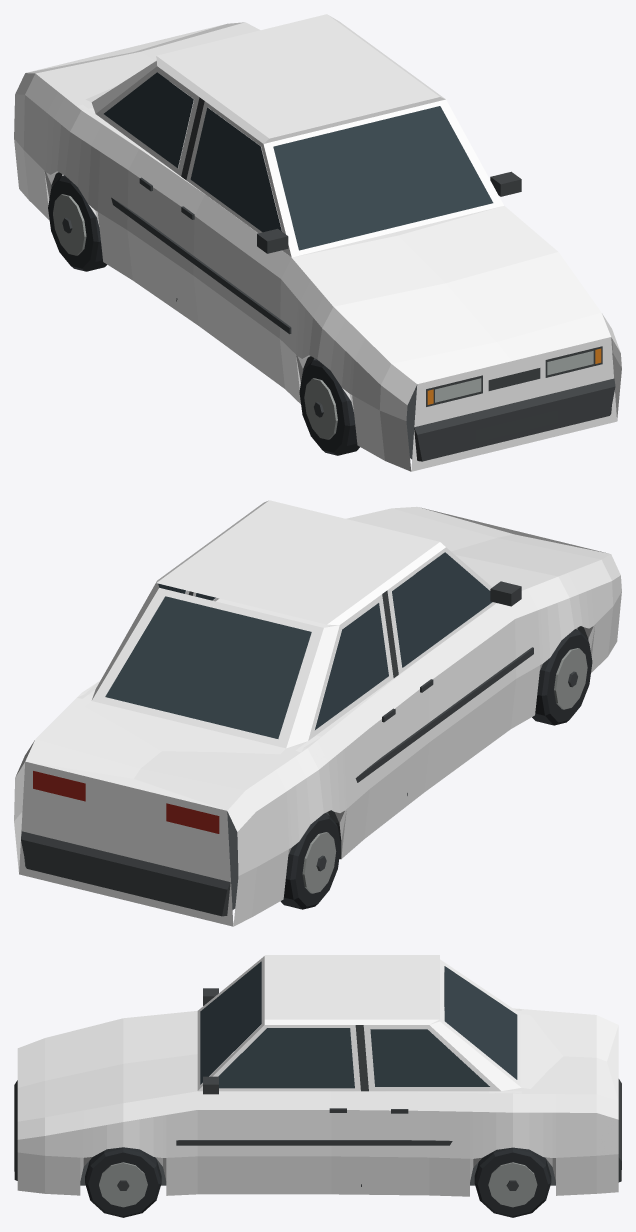
Rendered from mizuchi_kagero.glb.
3 renders of one model, top to bottom at view 1: azimuth 30°, elevation 25°; view 2: azimuth 150°, elevation 25°; view 3: azimuth 270°, elevation 25°, orthographic. The views are drawn at different scales.
Parts seen in each view (by area): view 1: mizuchi_kagero; view 2: mizuchi_kagero; view 3: mizuchi_kagero.
Part boxes in pixels (left/top/right/bottom): mizuchi_kagero: left=14, top=14, right=621, bottom=471; mizuchi_kagero: left=14, top=500, right=621, bottom=926; mizuchi_kagero: left=14, top=955, right=621, bottom=1217.
Size of the model in its own units: 1.73 by 1.52 by 4.54.
8 materials, 1 textured.
